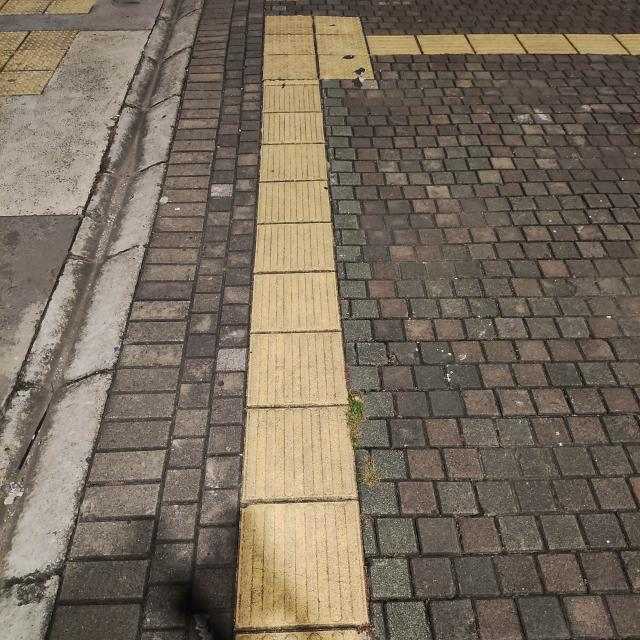kanan: (236, 21, 462, 108)
